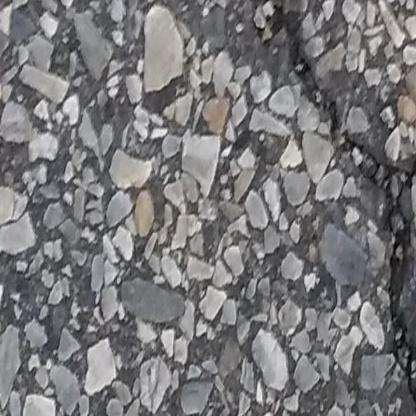Cracks: (218, 0, 416, 193), (358, 127, 416, 416)
